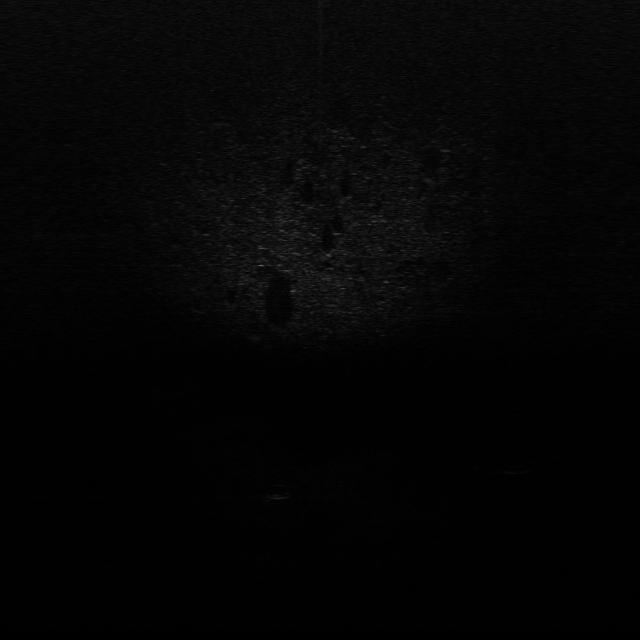ball: (266, 478, 296, 501)
human body: (472, 454, 566, 475)
